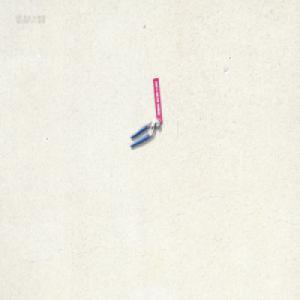Label: (152, 75, 163, 124)
Pliers: (129, 117, 160, 148)
